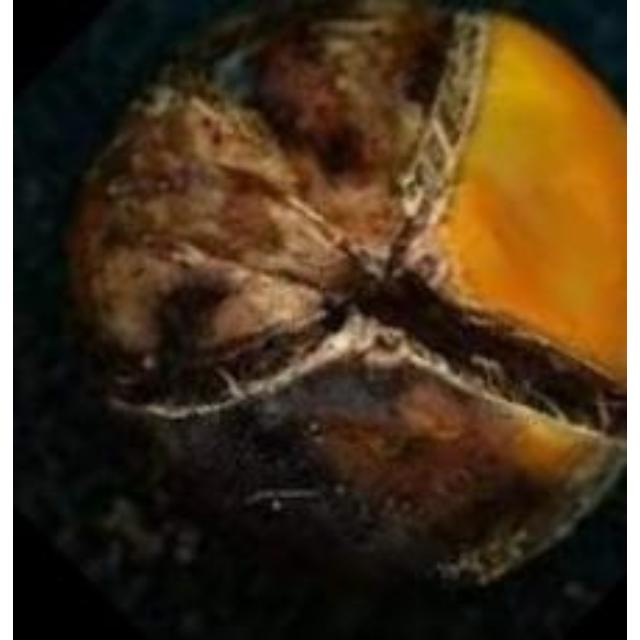damaged: (58, 0, 625, 634)
